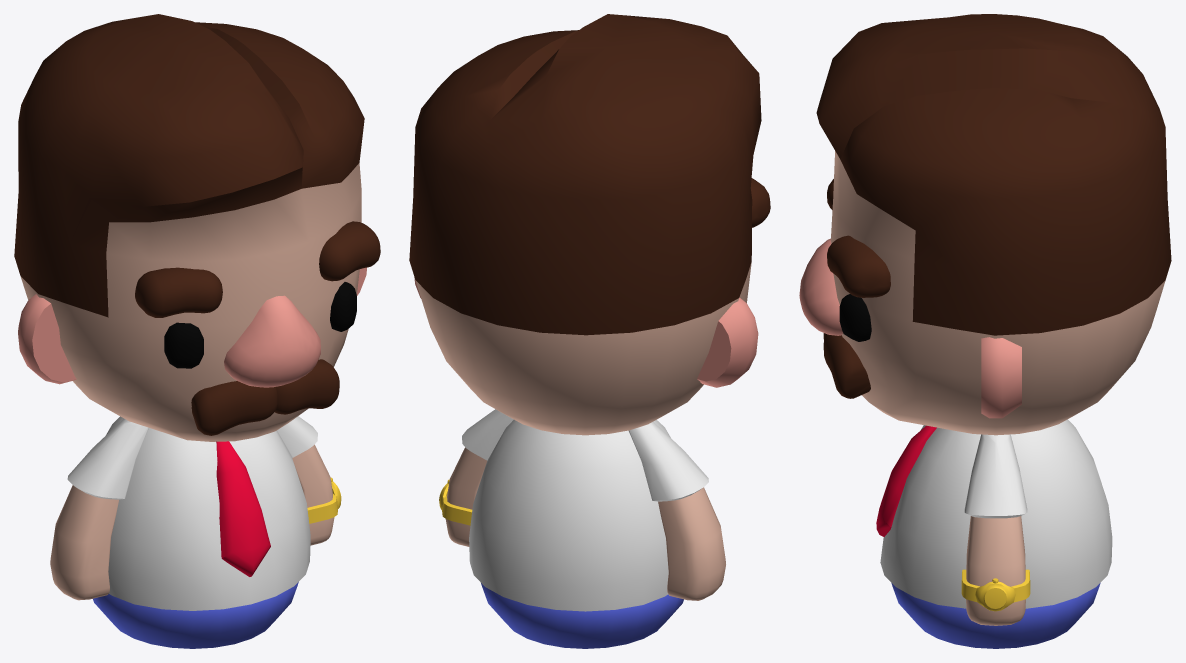
The model's file is Player.fbx.
3 views of the same model, side by side, from view 1: azimuth 30°, elevation 25°; view 2: azimuth 150°, elevation 25°; view 3: azimuth 270°, elevation 25° (orthographic).
Visible parts, largest first — view 1: PrototypePete_head, PrototypePete_body, PrototypePete_armRight, PrototypePete_armLeft; view 2: PrototypePete_head, PrototypePete_body, PrototypePete_armRight, PrototypePete_armLeft; view 3: PrototypePete_head, PrototypePete_body, PrototypePete_armLeft.
Part boxes in pixels (x1,y1,x2,y2): PrototypePete_head: (14, 14, 380, 441); PrototypePete_body: (93, 416, 310, 648); PrototypePete_armRight: (50, 418, 148, 600); PrototypePete_armLeft: (276, 416, 341, 545); PrototypePete_head: (409, 14, 770, 435); PrototypePete_body: (469, 419, 683, 648); PrototypePete_armRight: (629, 421, 725, 600); PrototypePete_armLeft: (439, 409, 513, 546); PrototypePete_head: (799, 14, 1171, 435); PrototypePete_body: (876, 419, 1112, 648); PrototypePete_armLeft: (961, 434, 1030, 625).
Bounding box in the file's own units: 118 × 190 × 112.
